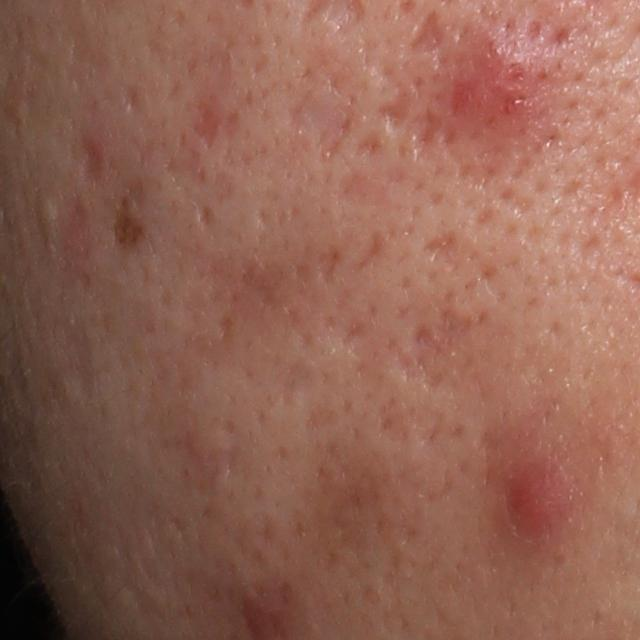atrophic_scar: (389, 306, 482, 395), (441, 95, 525, 190), (282, 81, 359, 165), (57, 325, 97, 402), (332, 170, 399, 209), (417, 226, 464, 281), (404, 105, 447, 159), (404, 8, 451, 56), (190, 97, 228, 154), (375, 83, 415, 137), (294, 242, 341, 286), (280, 355, 315, 405), (350, 226, 386, 273), (195, 199, 219, 233), (255, 196, 273, 235), (216, 311, 231, 345)
comedo: (33, 192, 56, 238)
melasma: (109, 195, 151, 254)
papule: (496, 453, 583, 550), (476, 47, 536, 116)
